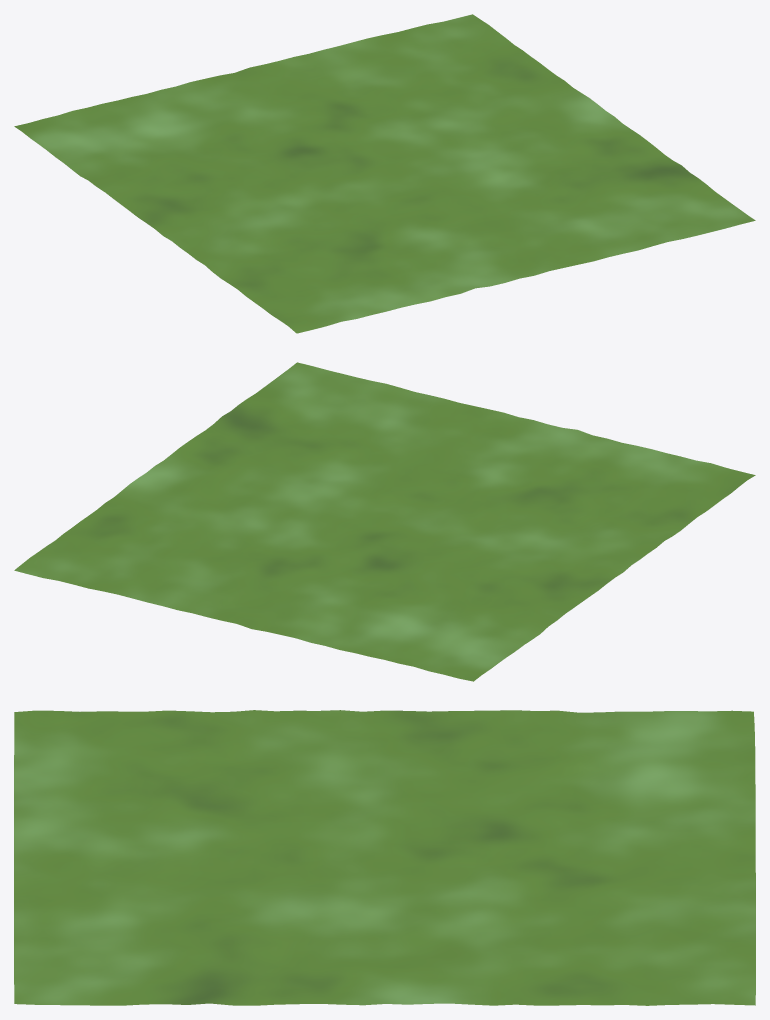
File: Suelo.fbx
3 renders of one model, top to bottom at view 1: azimuth 30°, elevation 25°; view 2: azimuth 150°, elevation 25°; view 3: azimuth 270°, elevation 25°, orthographic. The views are drawn at different scales.
Visible parts, largest first — view 1: Plane.001; view 2: Plane.001; view 3: Plane.001.
Boxes of the visible parts, x1,y1,x2,y2 form: Plane.001: [14, 14, 755, 333]; Plane.001: [14, 362, 755, 681]; Plane.001: [14, 710, 755, 1005].
Bounding box in the file's own units: 4685 × 26.23 × 5004.
1 material, 1 textured.
